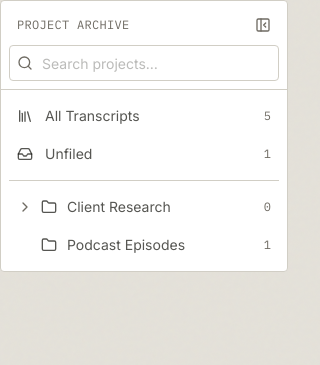
Test: ProjectArchivePanel › toggles folders open and closed
This screenshot has width=320, height=365.
Click the button named "Expand Client Research": click(25, 207) 9,195 -> 41,219
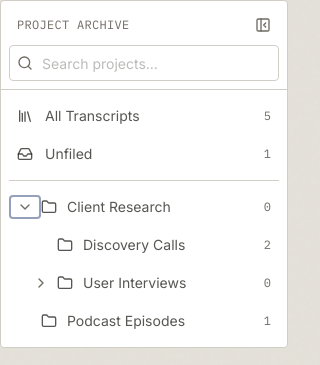
Check: the link "Discovery Calls 2" is shown, box 57,236 -> 271,253
Click the button named "Collapse Client Research": click(25, 207) 9,195 -> 41,219
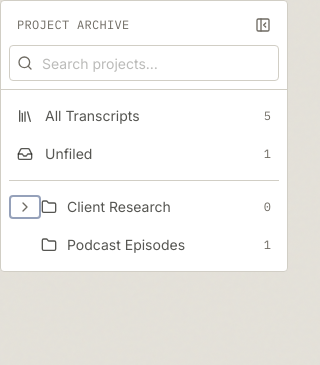
Check: the link "Discovery Calls" is gone
